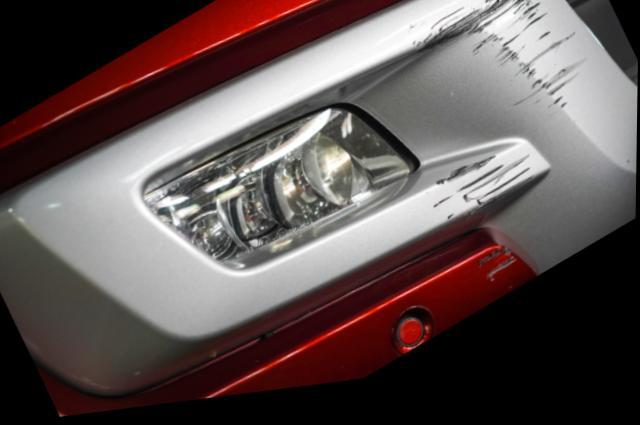scratch: (406, 0, 586, 126), (427, 165, 530, 232), (476, 255, 519, 296)
